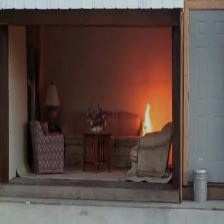fire: (138, 98, 160, 142)
